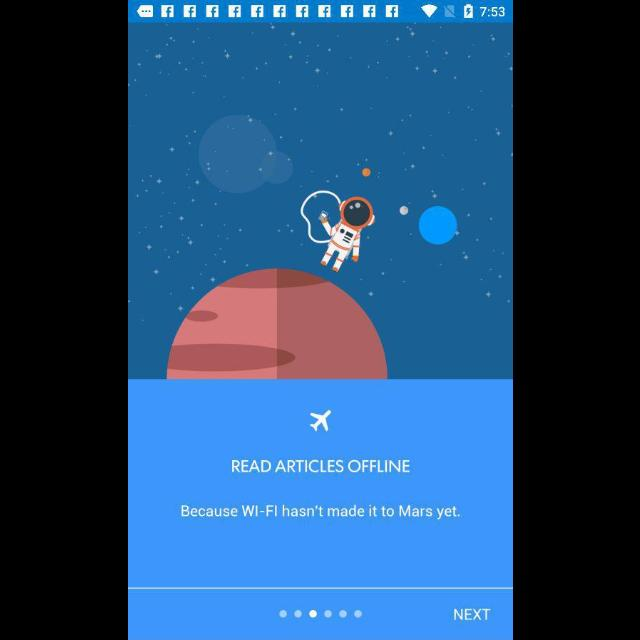image: (128, 24, 512, 378), (309, 411, 331, 433)
pageindicator: (278, 609, 362, 619)
text: (181, 504, 459, 520), (231, 460, 409, 474), (452, 607, 490, 621)
uppertaskbar: (128, 1, 512, 23)
